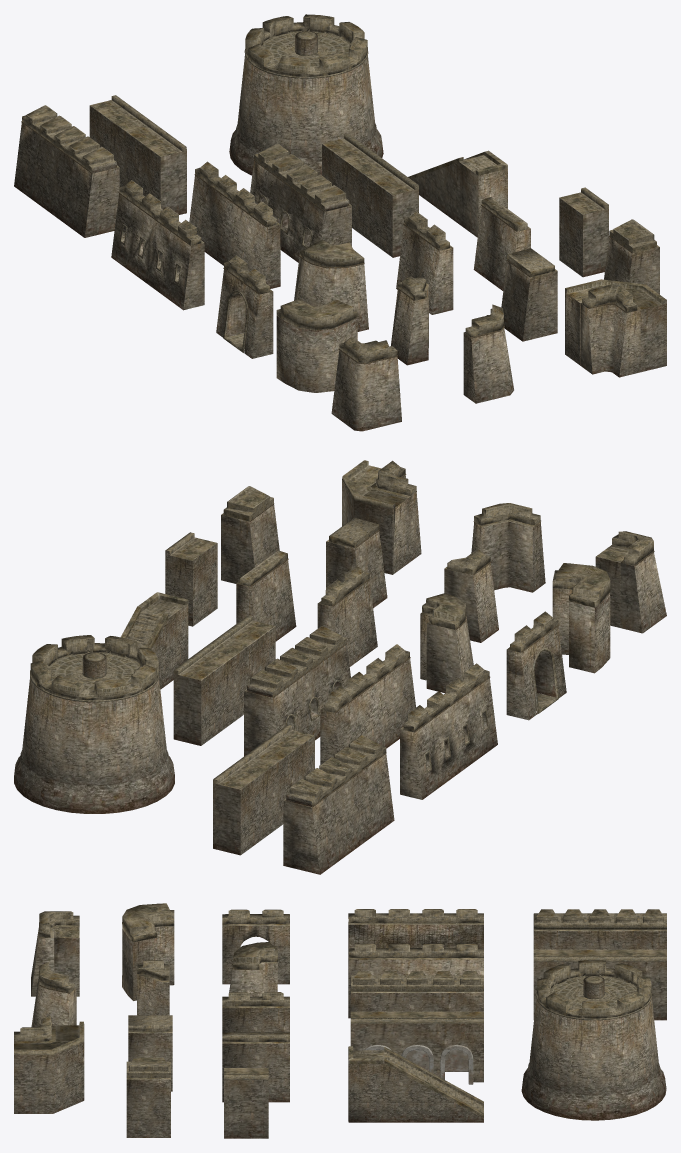
Rendered from fort.glb.
3 views of the same model, one above another, from view 1: azimuth 30°, elevation 25°; view 2: azimuth 150°, elevation 25°; view 3: azimuth 270°, elevation 25° (orthographic). The views are drawn at different scales.
Parts seen in each view (by area): view 1: modular_fort_01_wall_thick_corner_02, modular_fort_01_wall_thick_end_02; view 2: modular_fort_01_wall_thick_corner_02, modular_fort_01_wall_thick_end_02; view 3: modular_fort_01_wall_thick_corner_02, modular_fort_01_wall_thick_end_02, modular_fort_01_wall_walkway_straight_01.
Boxes of the visible parts, <box> form: modular_fort_01_wall_thick_corner_02: <box>14,14,666,431</box>; modular_fort_01_wall_thick_end_02: <box>216,206,659,365</box>; modular_fort_01_wall_thick_corner_02: <box>14,460,666,874</box>; modular_fort_01_wall_thick_end_02: <box>221,504,623,720</box>; modular_fort_01_wall_thick_corner_02: <box>14,903,666,1138</box>; modular_fort_01_wall_thick_end_02: <box>54,925,289,1137</box>; modular_fort_01_wall_walkway_straight_01: <box>365,1045,473,1084</box>.
Bounding box in the file's own units: 42.67 × 13.67 × 71.38.
Materials: 3 (3 with a texture image).
